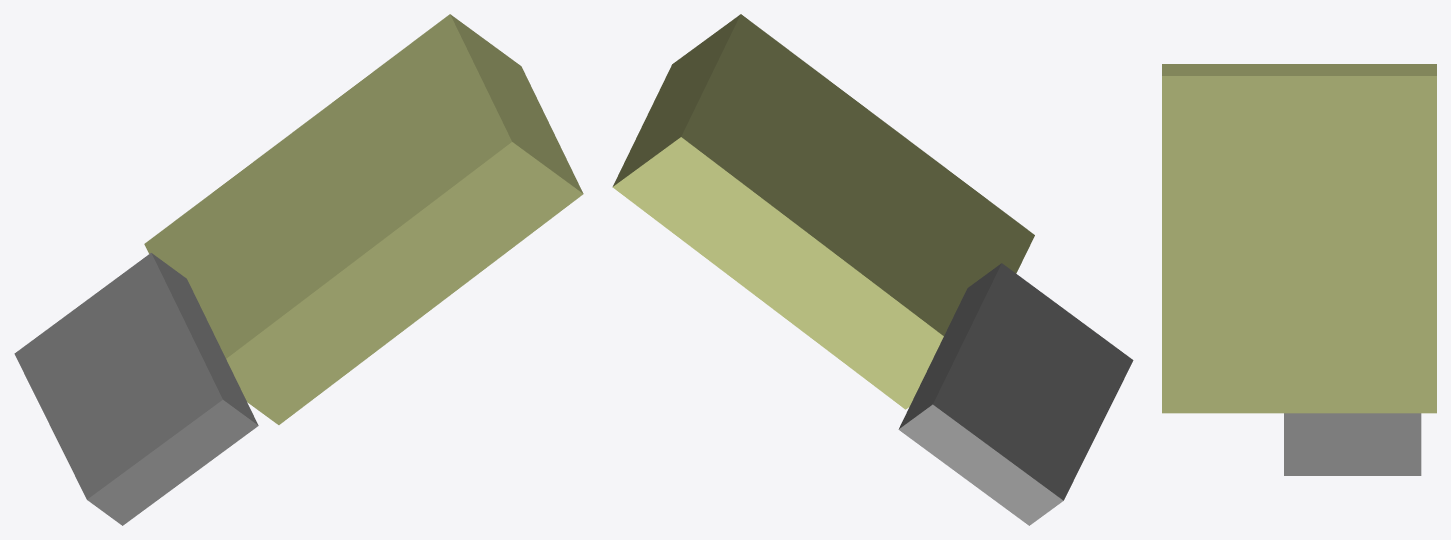
3 renders of one model, left to right at view 1: azimuth 30°, elevation 25°; view 2: azimuth 150°, elevation 25°; view 3: azimuth 270°, elevation 25°, orthographic. The views are drawn at different scales.
Visible parts, largest first — view 1: 0_2_1_3_0_0_2_2_3_1; view 2: 0_2_1_3_0_0_2_2_3_1; view 3: 0_2_1_3_0_0_2_2_3_1.
Part boxes in pixels (<box>): 0_2_1_3_0_0_2_2_3_1: <box>14,14,583,525</box>; 0_2_1_3_0_0_2_2_3_1: <box>612,14,1133,525</box>; 0_2_1_3_0_0_2_2_3_1: <box>1162,64,1436,475</box>.
Size of the model in its own units: 24.34 by 18.22 by 6.
